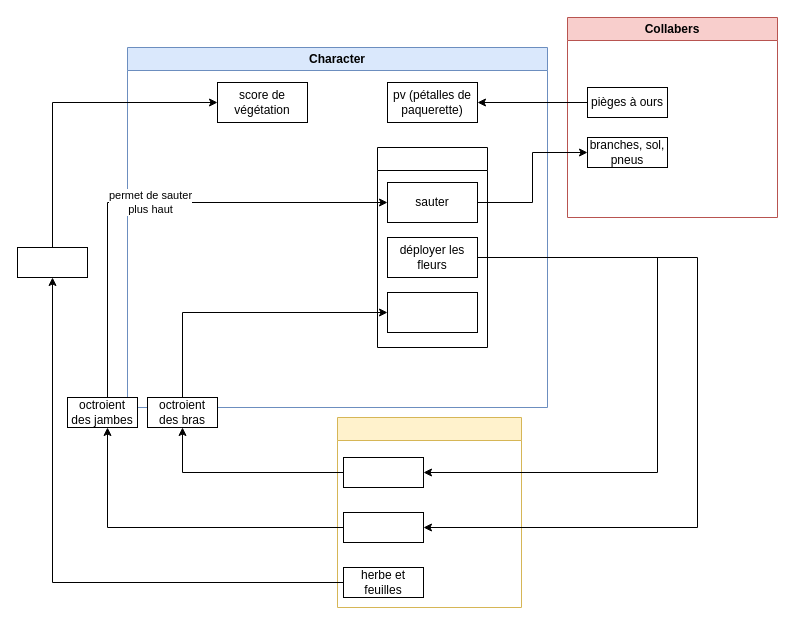
Some shapes in this 795 by 625 pixel diagram are drawn without their labels. The box of each missing label's shape, as (x1, y1, x2, y2) in pixels:
Capacités: (376, 146, 488, 348)
Collectibles: (336, 416, 522, 608)
fleurs jaunes: (342, 512, 424, 542)
fleurs rouges: (342, 456, 424, 488)
octroient des points: (16, 246, 88, 278)
taper: (386, 292, 478, 332)
